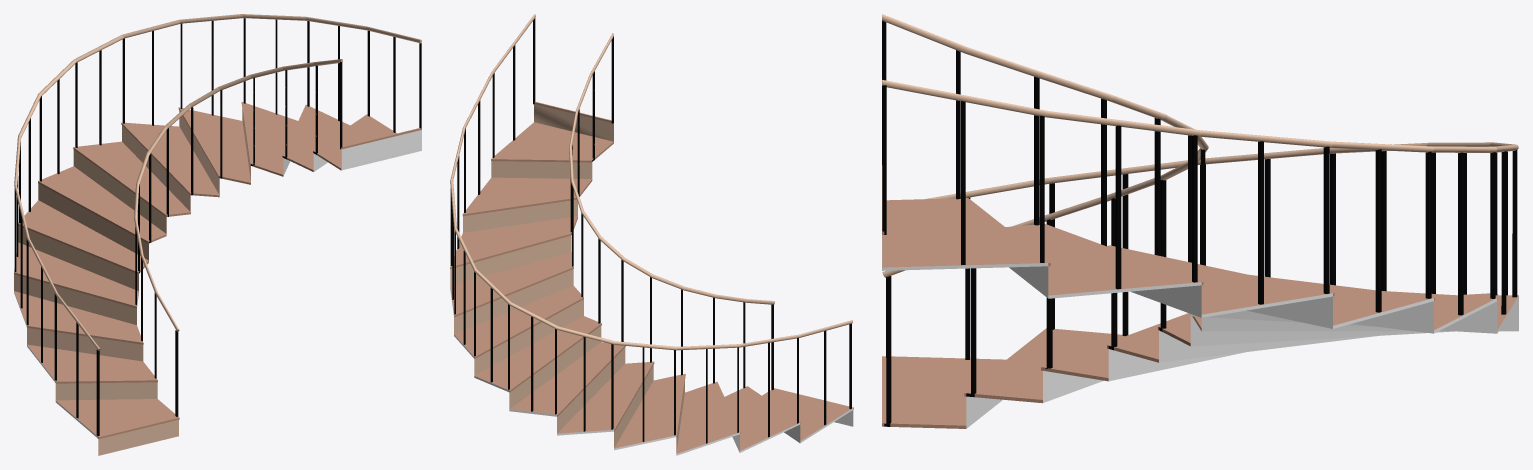
The model's file is sh-contrib-stairs-180-circular-notopstep-rail.glb.
3 renders of one model, left to right at view 1: azimuth 30°, elevation 25°; view 2: azimuth 150°, elevation 25°; view 3: azimuth 270°, elevation 25°, orthographic. The views are drawn at different scales.
Visible parts, largest first — view 1: 73_73, 69_69.001, 70_70.001; view 2: 73_73, 69_69.001, 70_70.001; view 3: 73_73, 70_70.001, 69_69.001.
Boxes of the visible parts, x1,y1,x2,y2 form: 73_73: (14,102,421,438); 69_69.001: (14,14,421,455); 70_70.001: (14,18,421,435); 73_73: (450,101,853,455); 69_69.001: (450,14,852,452); 70_70.001: (450,18,851,443); 73_73: (882,165,1518,428); 70_70.001: (882,21,1517,426); 69_69.001: (882,14,1518,277).
Bounding box in the file's own units: 1 × 1 × 1.
